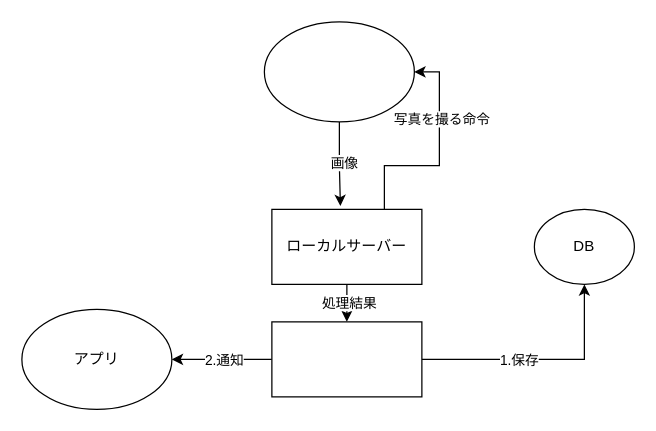
The diagram is 656 pixels wide and 431 high, and some of its shapes have lost their labels. Here are the shapes that lost their labels. From the top down, the box of each, then its label:
(263, 21, 414, 122): ドローン
(271, 321, 422, 397): アプリサーバー
